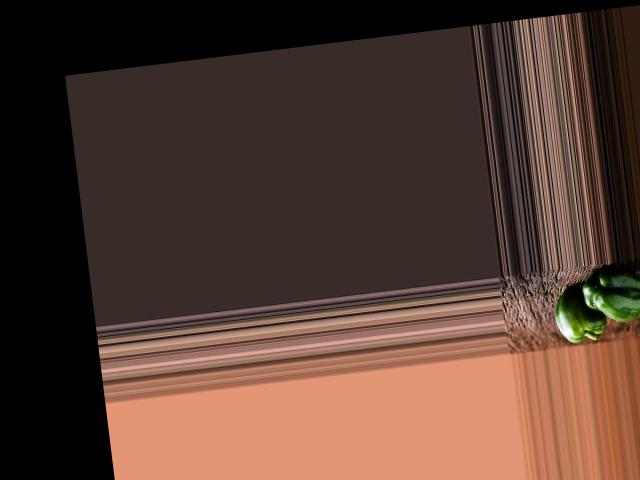bell_pepper: (578, 266, 640, 328)
